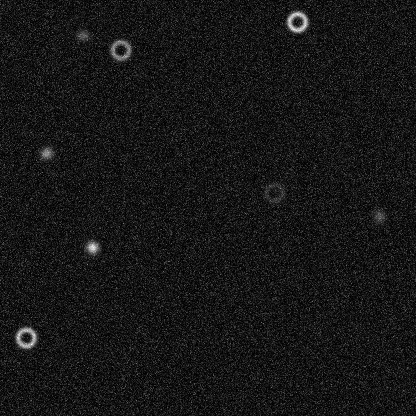Ring: (285, 9, 309, 33), (108, 37, 132, 61), (262, 180, 286, 204), (13, 325, 37, 349)
Spot: (84, 239, 100, 255), (38, 145, 54, 161), (371, 208, 387, 224), (75, 27, 91, 43)
